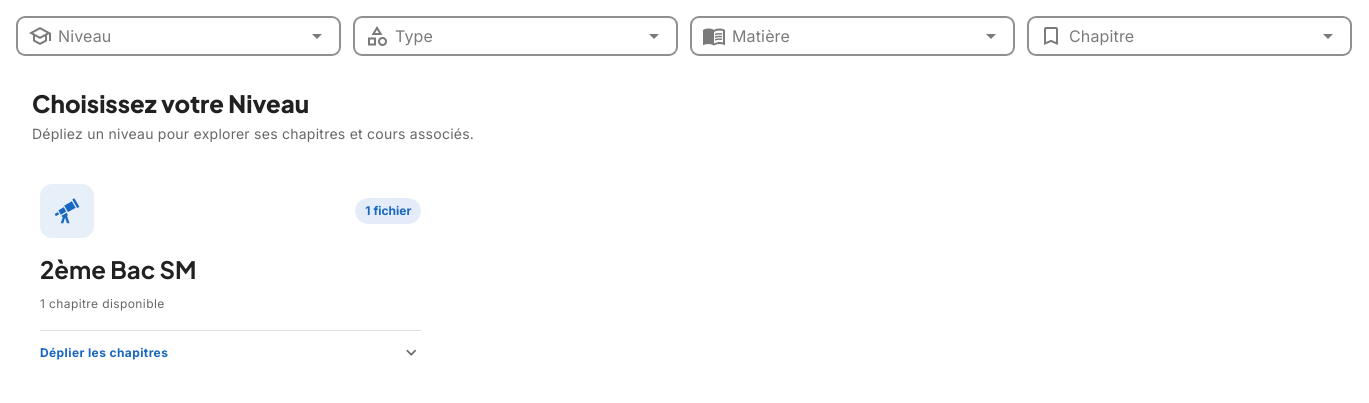
Scenario: BrowseView › hides unclassified files from browsing (level -> chapter)
Click the element with test id "unfold-level-2ème Bac SM": (231, 273) [16,160,445,387]
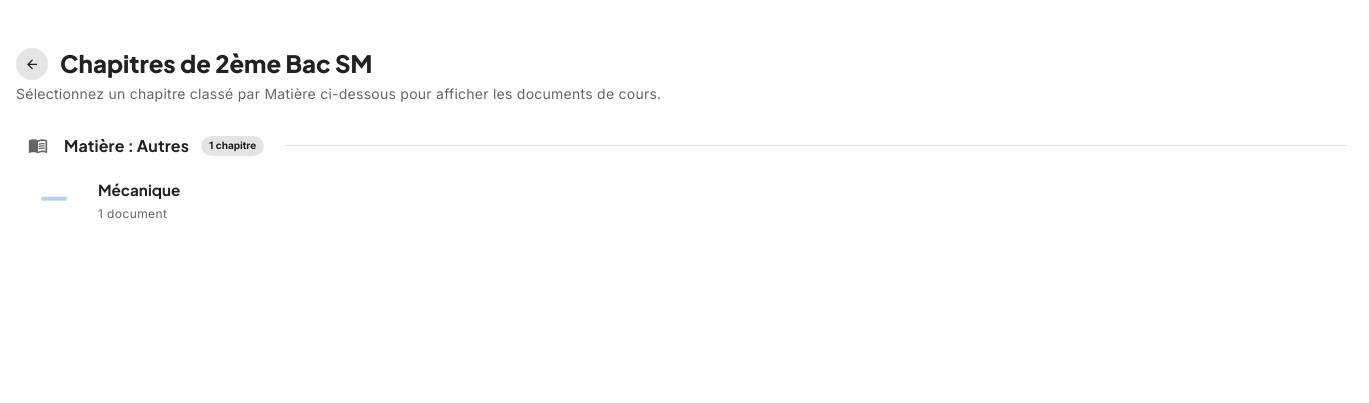
Expected: the text "Mécanique" is shown, [98,180,180,199]
